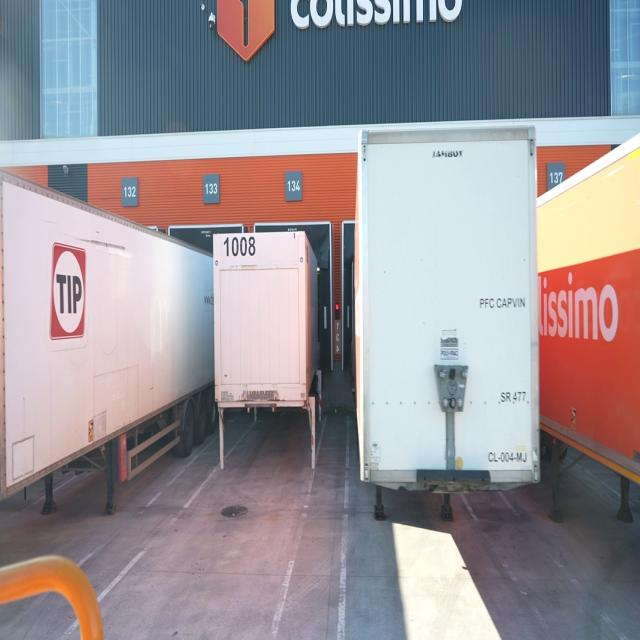Code: (221, 232, 260, 260)
